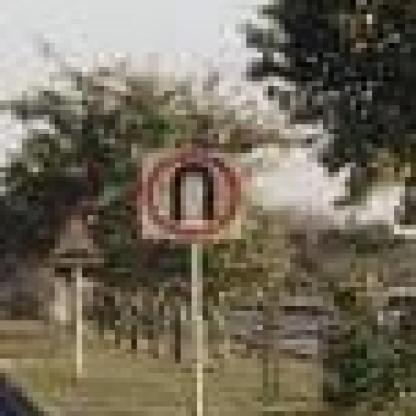Speed Breaker Ahead: (42, 210, 106, 262)
U-Turn: (140, 148, 246, 238)
